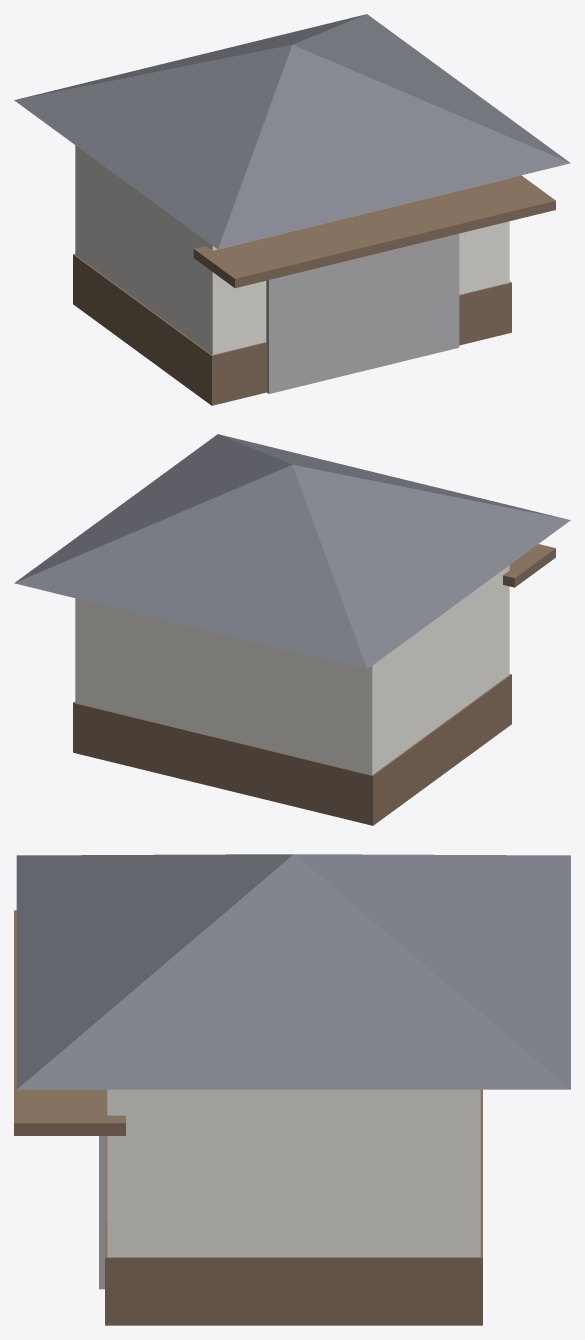
File: shop_closed.glb
The picture shows the model from 3 angles, top to bottom: view 1: azimuth 30°, elevation 25°; view 2: azimuth 150°, elevation 25°; view 3: azimuth 270°, elevation 25°; orthographic projection. The views are drawn at different scales.
Parts seen in each view (by area): view 1: shop_closed; view 2: shop_closed; view 3: shop_closed.
Boxes of the visible parts, x1,y1,x2,y2 form: shop_closed: (14,14,570,405); shop_closed: (14,434,570,825); shop_closed: (14,854,570,1325).
Size of the model in its own units: 5.94 by 4.4 by 5.97.
